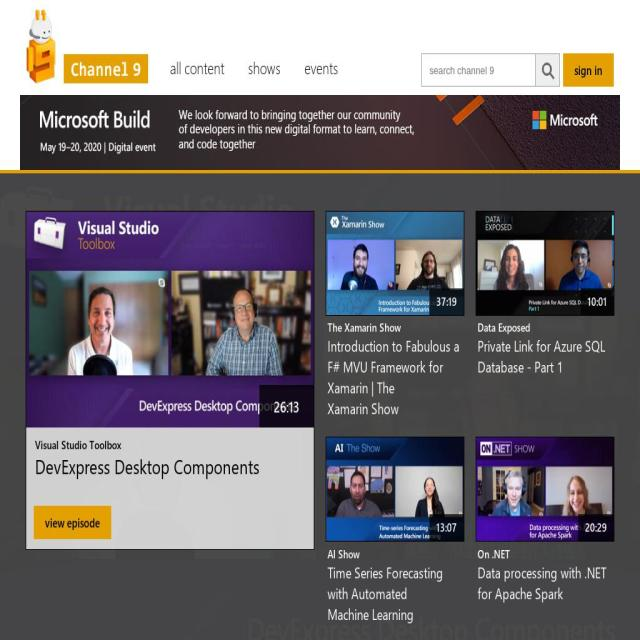button: (26, 212, 314, 428), (20, 95, 620, 170), (326, 437, 464, 541), (476, 437, 614, 541), (326, 212, 464, 315), (476, 212, 614, 315), (27, 8, 152, 84), (33, 506, 111, 540), (563, 53, 614, 87), (536, 54, 560, 86)
field: (422, 54, 535, 86)
heading: (0, 173, 640, 640), (26, 173, 614, 640), (328, 335, 460, 419), (328, 561, 443, 624), (34, 452, 260, 480), (477, 335, 605, 377), (478, 561, 606, 603)
image: (26, 212, 314, 428), (20, 95, 620, 170), (326, 437, 464, 541), (476, 437, 614, 541), (326, 212, 464, 315), (476, 212, 614, 315)
link: (34, 437, 121, 453), (328, 319, 402, 336), (170, 56, 224, 78), (478, 319, 530, 336), (304, 56, 338, 78), (248, 56, 281, 78), (328, 545, 360, 562), (478, 545, 510, 562)
text: (64, 54, 148, 84), (259, 385, 314, 427), (578, 513, 614, 541), (429, 287, 464, 315), (429, 513, 464, 541), (580, 287, 614, 315)
